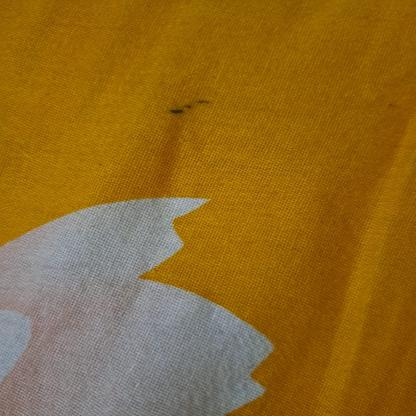spot: (162, 89, 212, 116)
